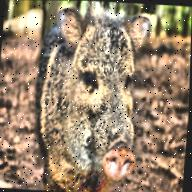boar: (29, 0, 154, 192)
